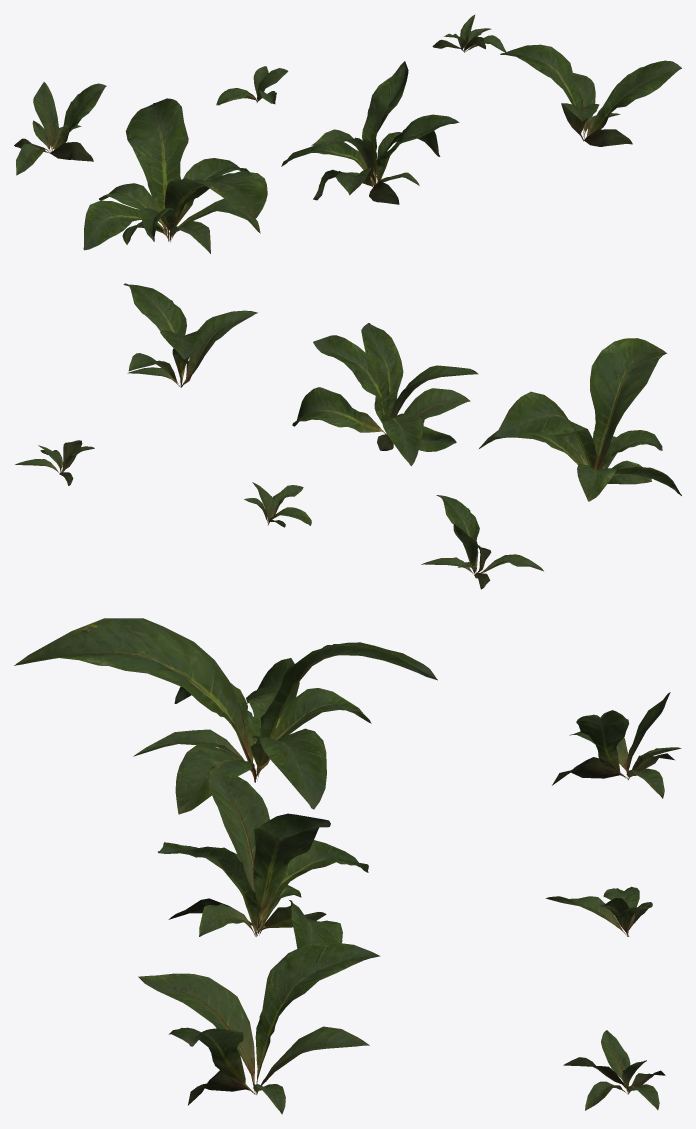
Rendered from anthurium_botany_01.glb.
3 views of the same model, one above another, from view 1: azimuth 30°, elevation 25°; view 2: azimuth 150°, elevation 25°; view 3: azimuth 270°, elevation 25° (orthographic). The views are drawn at different scales.
Parts seen in each view (by area): view 1: anthurium_botany_01_a, anthurium_botany_01_b, anthurium_botany_01_c, anthurium_botany_04_d, anthurium_botany_05_e, anthurium_botany_06_f; view 2: anthurium_botany_01_a, anthurium_botany_01_b, anthurium_botany_01_c, anthurium_botany_04_d, anthurium_botany_05_e, anthurium_botany_06_f; view 3: anthurium_botany_01_a, anthurium_botany_01_b, anthurium_botany_01_c, anthurium_botany_04_d, anthurium_botany_06_f, anthurium_botany_05_e.
Boxes of the visible parts, left/top/right/bottom form: anthurium_botany_01_a: left=83, top=98, right=267, bottom=253; anthurium_botany_01_b: left=281, top=61, right=459, bottom=204; anthurium_botany_01_c: left=500, top=44, right=681, bottom=146; anthurium_botany_04_d: left=14, top=82, right=106, bottom=175; anthurium_botany_05_e: left=216, top=66, right=288, bottom=105; anthurium_botany_06_f: left=432, top=14, right=506, bottom=52; anthurium_botany_01_a: left=479, top=338, right=681, bottom=501; anthurium_botany_01_b: left=292, top=323, right=478, bottom=465; anthurium_botany_01_c: left=123, top=283, right=257, bottom=387; anthurium_botany_04_d: left=421, top=495, right=543, bottom=589; anthurium_botany_05_e: left=244, top=482, right=311, bottom=527; anthurium_botany_06_f: left=15, top=440, right=94, bottom=485; anthurium_botany_01_a: left=14, top=618, right=437, bottom=814; anthurium_botany_01_b: left=157, top=763, right=368, bottom=948; anthurium_botany_01_c: left=138, top=942, right=380, bottom=1114; anthurium_botany_04_d: left=552, top=692, right=681, bottom=798; anthurium_botany_06_f: left=563, top=1030, right=665, bottom=1110; anthurium_botany_05_e: left=545, top=886, right=652, bottom=936.
Size of the model in its own units: 2.79 by 0.4982 by 1.8.
1 material, 1 textured.
